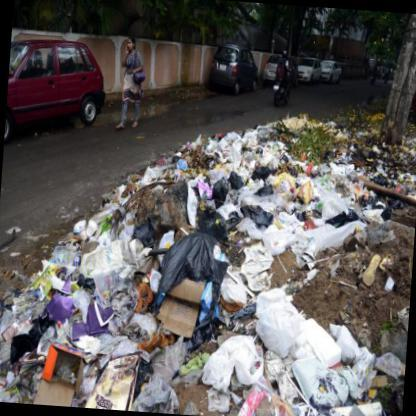Garbage: (33, 281, 198, 414), (243, 287, 410, 415), (119, 183, 247, 349), (228, 138, 392, 245)
